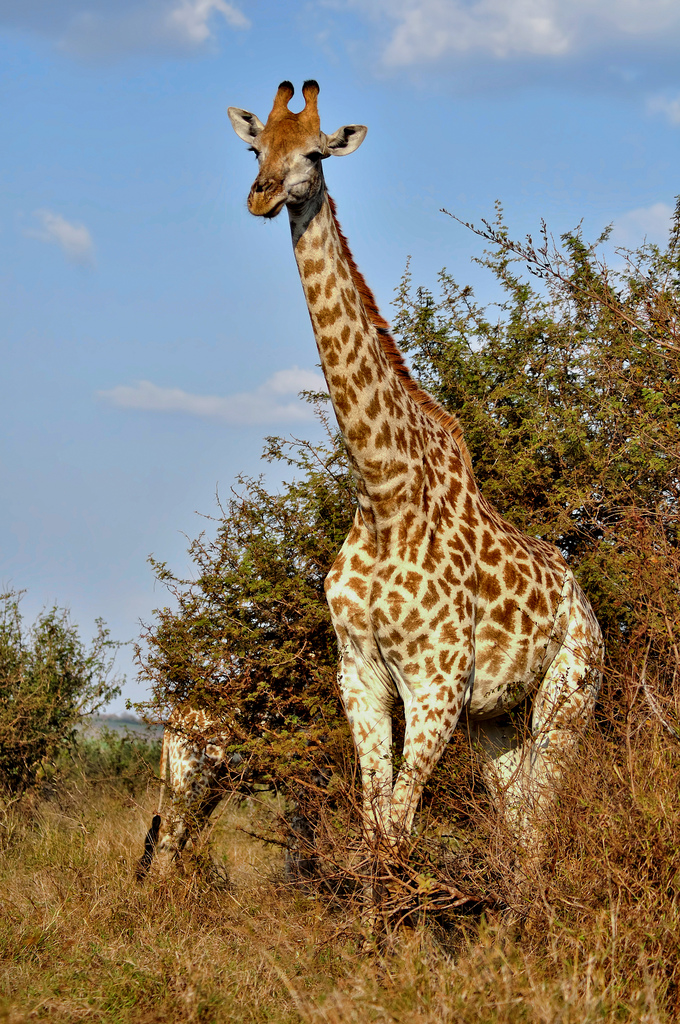giraffe: (217, 79, 614, 915)
